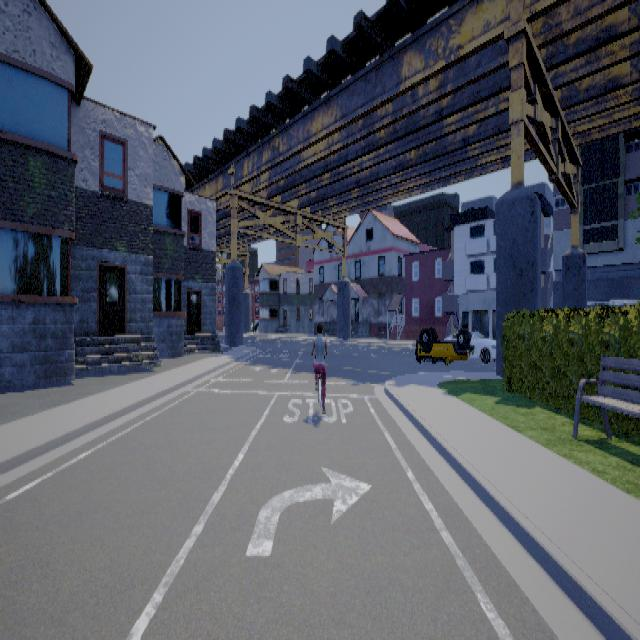bike: (306, 318, 331, 424)
vehicle: (414, 325, 495, 364)
